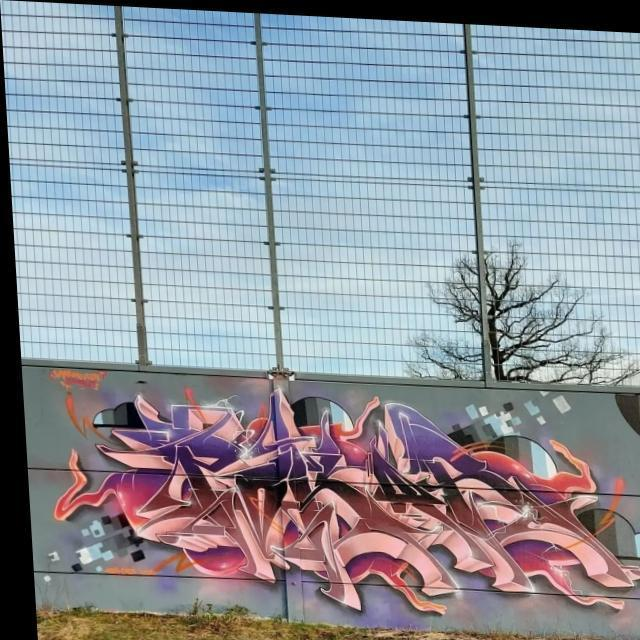-: (29, 368, 640, 624), (44, 362, 100, 393), (97, 564, 153, 578)
